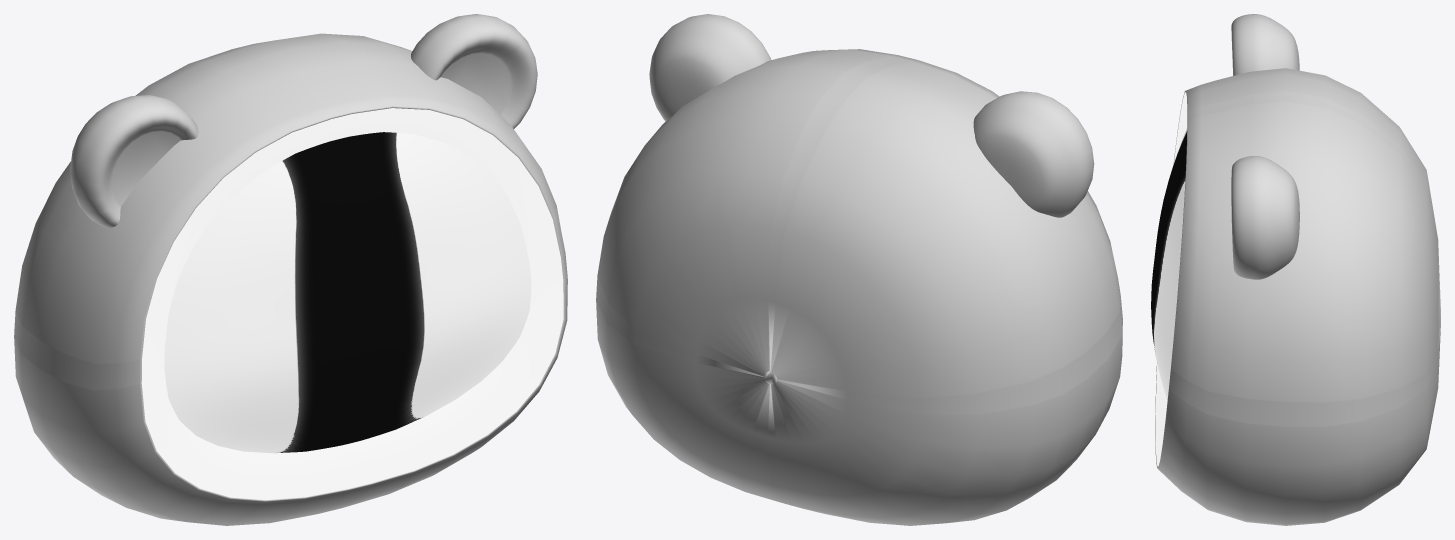
Rendered from mumu.glb.
3 views of the same model, side by side, from view 1: azimuth 30°, elevation 25°; view 2: azimuth 150°, elevation 25°; view 3: azimuth 270°, elevation 25° (orthographic). The views are drawn at different scales.
Visible parts, largest first — view 1: FrountFace.001, outBody.001, inBody.001, Ears.001; view 2: outBody.001, Ears.001; view 3: outBody.001, Ears.001, FrountFace.001, inBody.001.
Part boxes in pixels (box(x1,y1,x2,y2)): FrountFace.001: box(164, 132, 531, 453); outBody.001: box(14, 33, 567, 525); inBody.001: box(141, 108, 563, 500); Ears.001: box(70, 14, 537, 227); outBody.001: box(596, 49, 1122, 525); Ears.001: box(649, 14, 1094, 217); outBody.001: box(1155, 68, 1440, 525); Ears.001: box(1231, 14, 1299, 279); FrountFace.001: box(1151, 127, 1187, 400); inBody.001: box(1155, 92, 1187, 466).
Size of the model in its own units: 4.42 by 3.84 by 2.57.
Materials: 3 (1 with a texture image).
